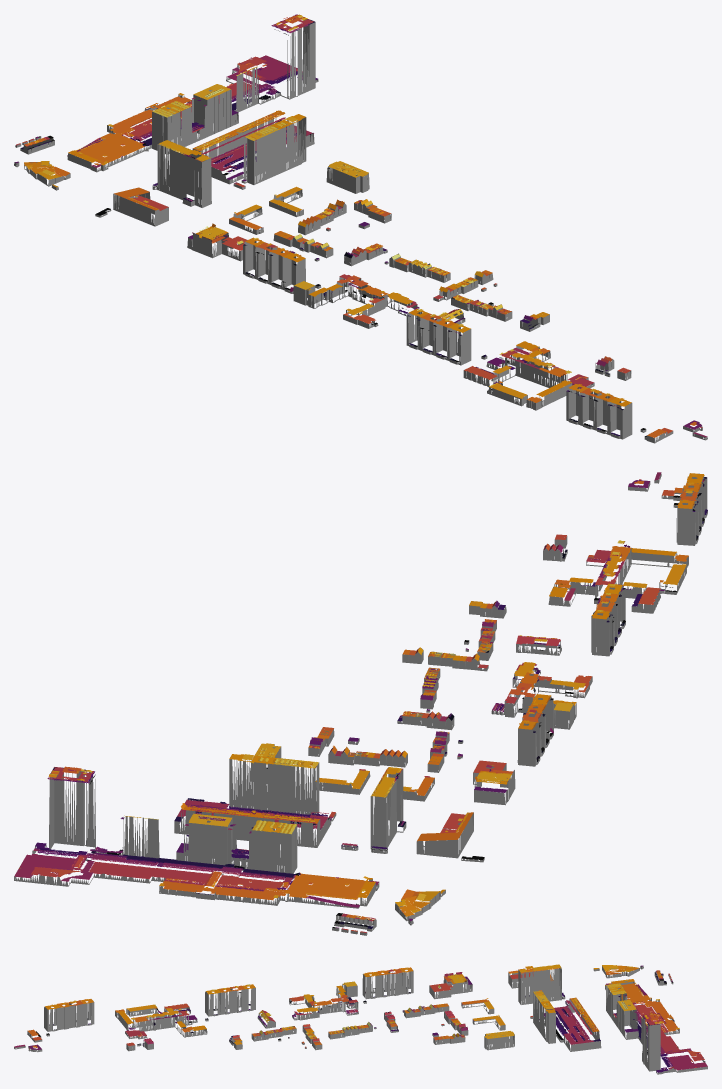
Rendered from voorhof_83000_445000.glb.
3 renders of one model, top to bottom at view 1: azimuth 30°, elevation 25°; view 2: azimuth 150°, elevation 25°; view 3: azimuth 270°, elevation 25°, orthographic. The views are drawn at different scales.
Size of the model in its own units: 379 by 81.63 by 1045.
